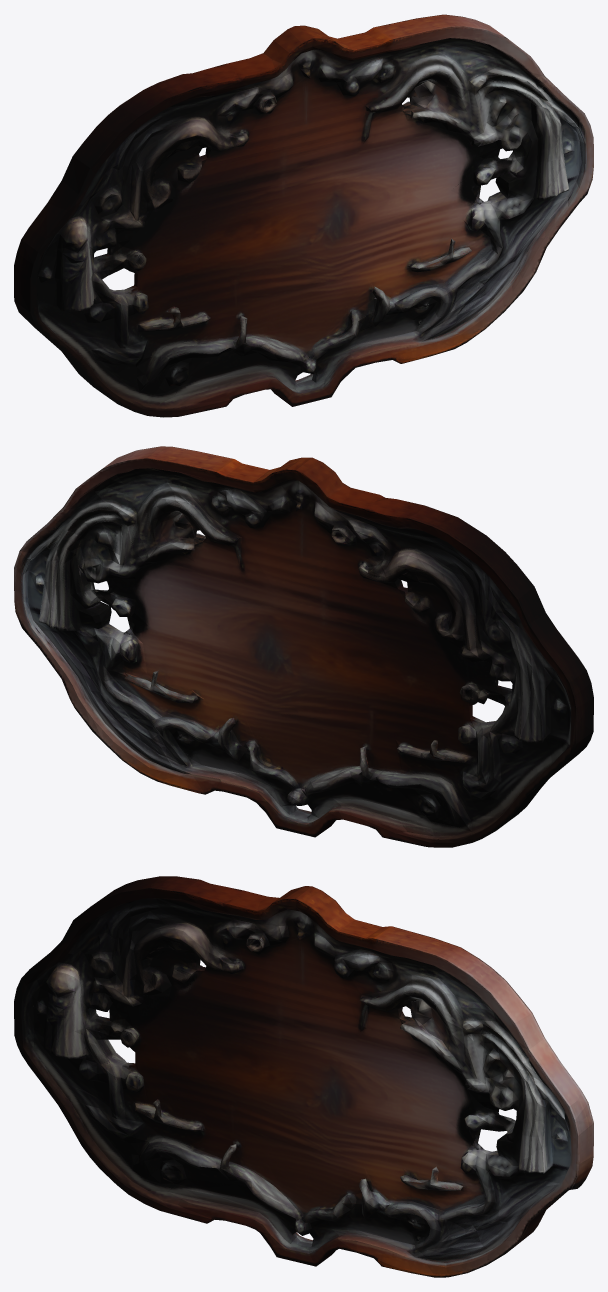
The model's file is wooden-serving-tray-horror.jpeg.glb.
3 views of the same model, one above another, from view 1: azimuth 30°, elevation 25°; view 2: azimuth 150°, elevation 25°; view 3: azimuth 330°, elevation 25° (orthographic).
Visible parts, largest first — view 1: world; view 2: world; view 3: world.
Boxes of the visible parts, x1,y1,x2,y2 form: world: (14,14,593,417); world: (14,446,593,847); world: (14,876,593,1277).
Bounding box in the file's own units: 1 × 0.6159 × 0.0856.
1 material, 1 textured.
